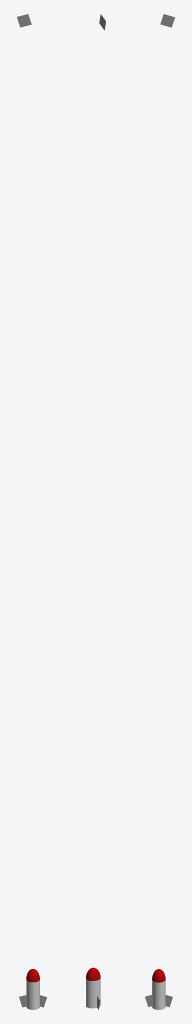
The model's file is fixedrocket.fbx.
3 renders of one model, left to right at view 1: azimuth 90°, elevation 25°; view 2: azimuth 210°, elevation 25°; view 3: azimuth 270°, elevation 25°, orthographic.
Visible parts, largest first — view 1: pCylinder3, pPlane5; view 2: pCylinder3; view 3: pCylinder3, pPlane5.
Part boxes in pixels (left/top/right/bottom): pCylinder3: left=19, top=969, right=46, bottom=1009; pPlane5: left=17, top=14, right=31, bottom=27; pCylinder3: left=86, top=967, right=100, bottom=1009; pCylinder3: left=145, top=969, right=172, bottom=1009; pPlane5: left=160, top=14, right=174, bottom=27.
Bounding box in the file's own units: 1.28 × 91.23 × 2.52.
